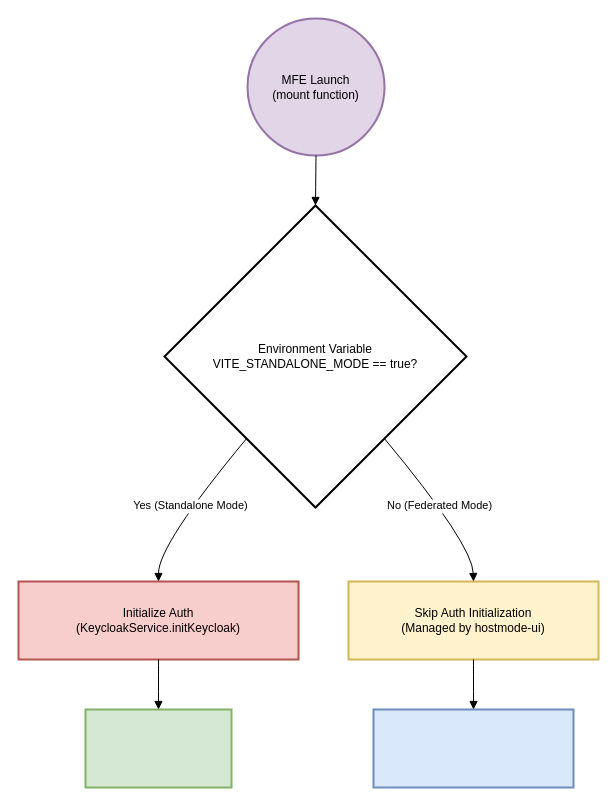
Some shapes in this 616 by 805 pixel diagram are drawn without their labels. Each missing label, with the centre of its shape:
"Render with BrowserRouter and ToastContainer" goes at pixel 158 748.
"Return bare App component for host integration" goes at pixel 473 748.
